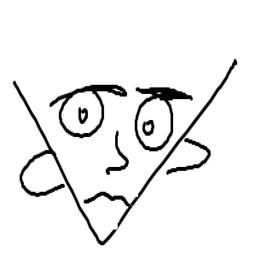ear: (171, 138, 233, 188), (16, 148, 64, 207)
eye: (55, 79, 106, 143), (135, 92, 175, 152)
line_unsmiling_mouth: (79, 190, 128, 208)
nose: (100, 130, 131, 180)
